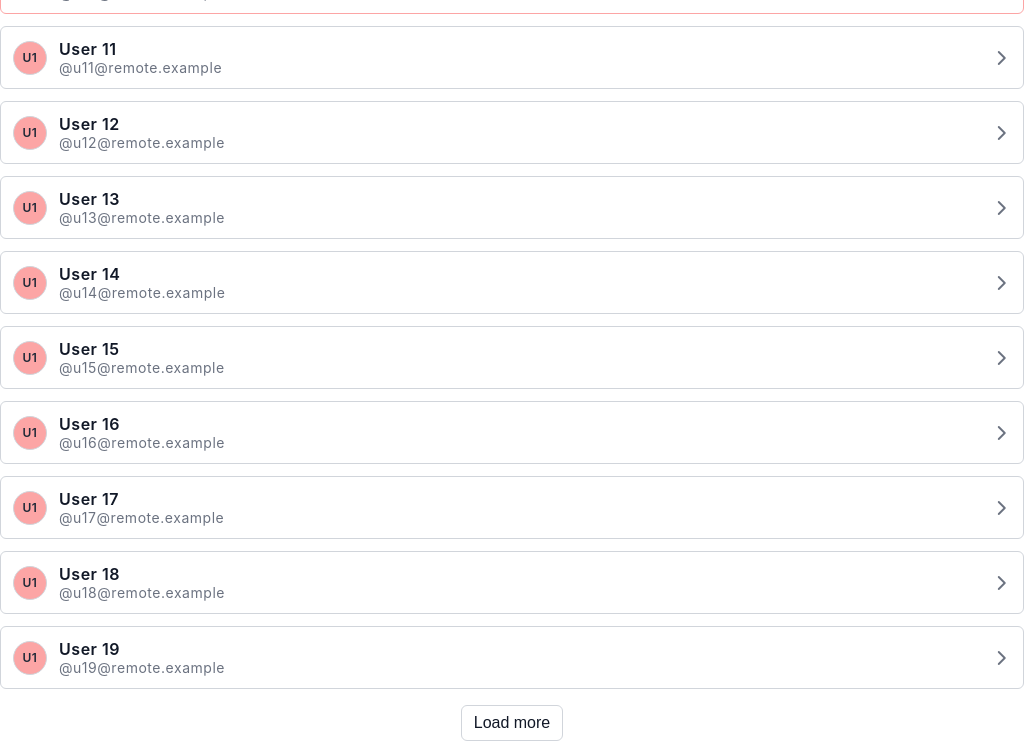
Test: UserFollowsView › appends the next page when loading more
(page scrolled)
Click the button "Load more": (512, 723) 461,705 -> 563,740
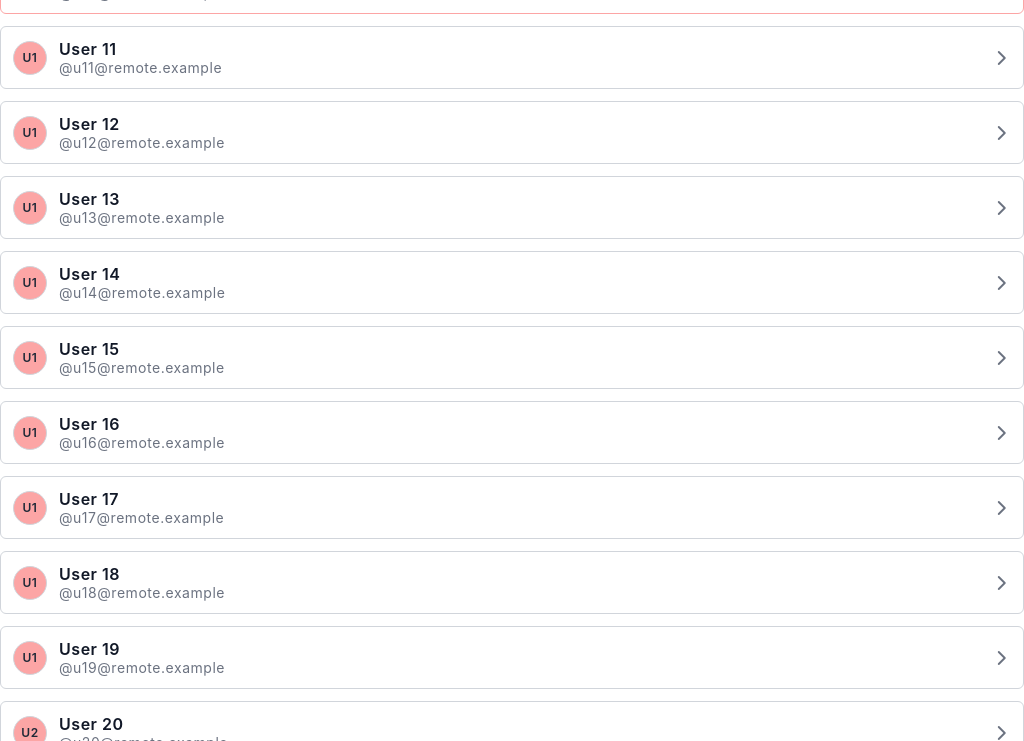
Result: the text "User 20" is shown at 59,714 -> 124,734
